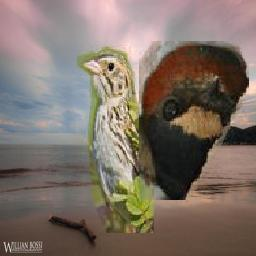Sparrow: (78, 43, 155, 233)
Swallow: (139, 42, 249, 201)
